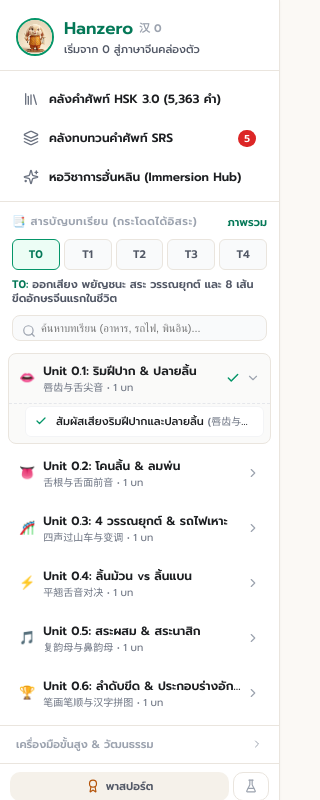
Test: DesktopSidebar Component (Resilient Desktop Navigation) › switches to Tier 3 and renders all 20 units without crashing
The image size is (320, 800).
Click the button "T3" at {"x": 191, "y": 254}, box [167,239,215,270]
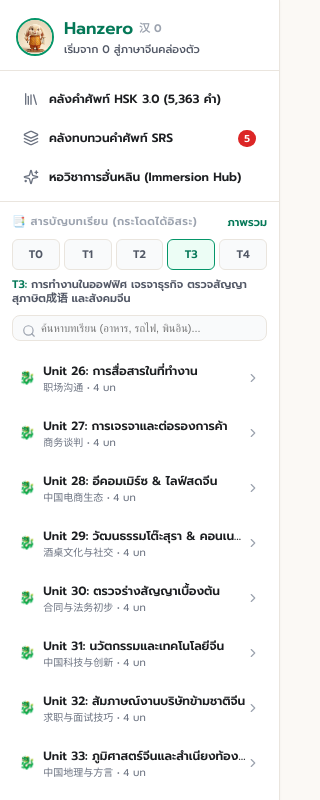
expect the text "Unit 26:" is shown: met, box [43,362,198,380]
